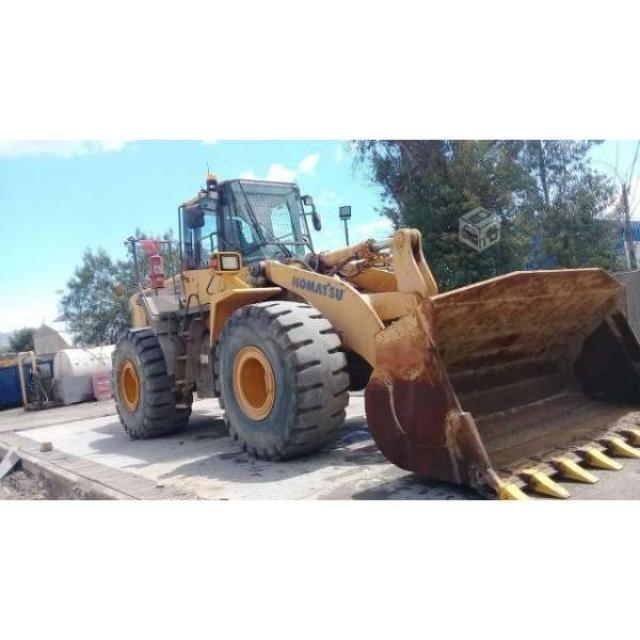buldozerpayloadergrader: (106, 175, 640, 499)
